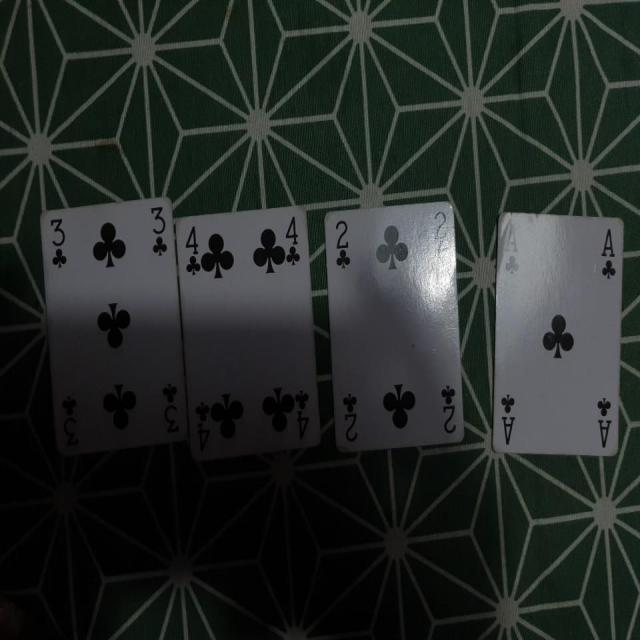2 Trefoils: (323, 197, 467, 450)
3 Trefoils: (39, 194, 190, 457)
4 Trefoils: (175, 204, 322, 468)
A Trefoils: (489, 207, 624, 456)
